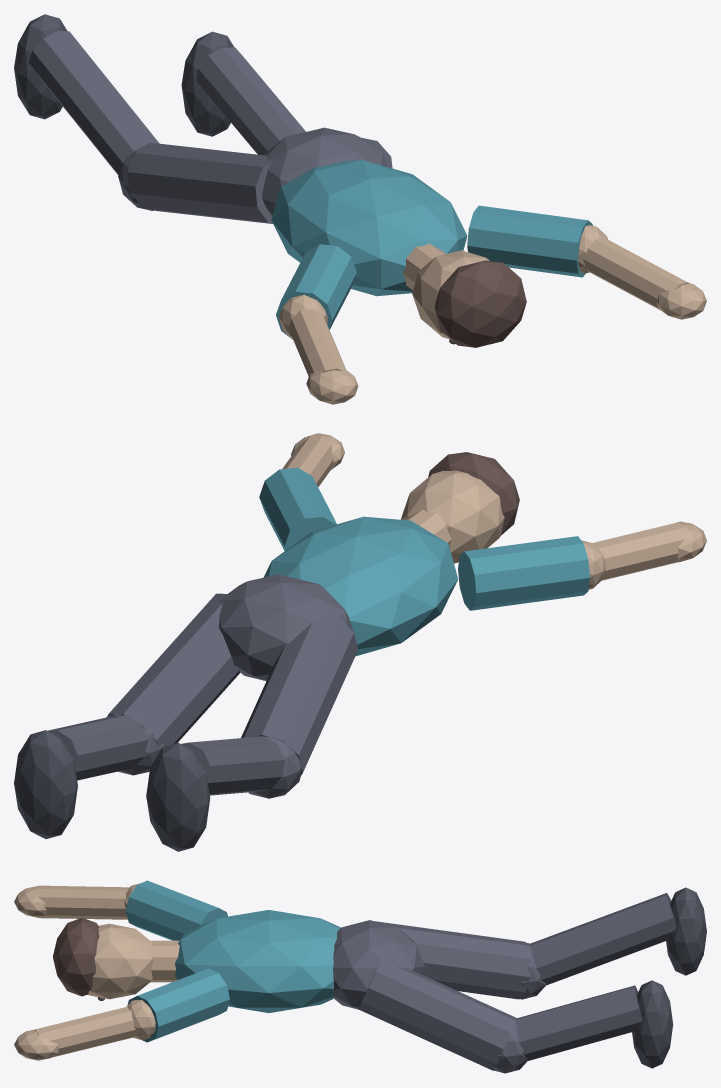
3 views of the same model, one above another, from view 1: azimuth 30°, elevation 25°; view 2: azimuth 150°, elevation 25°; view 3: azimuth 270°, elevation 25° (orthographic). The views are drawn at different scales.
Visible parts, largest first — view 1: world; view 2: world; view 3: world.
Part boxes in pixels (x1=…): world: x1=14, y1=14, x2=706, y2=404; world: x1=14, y1=433, x2=706, y2=851; world: x1=14, y1=880, x2=706, y2=1073.
Size of the model in its own units: 1.17 by 0.4125 by 2.13.
